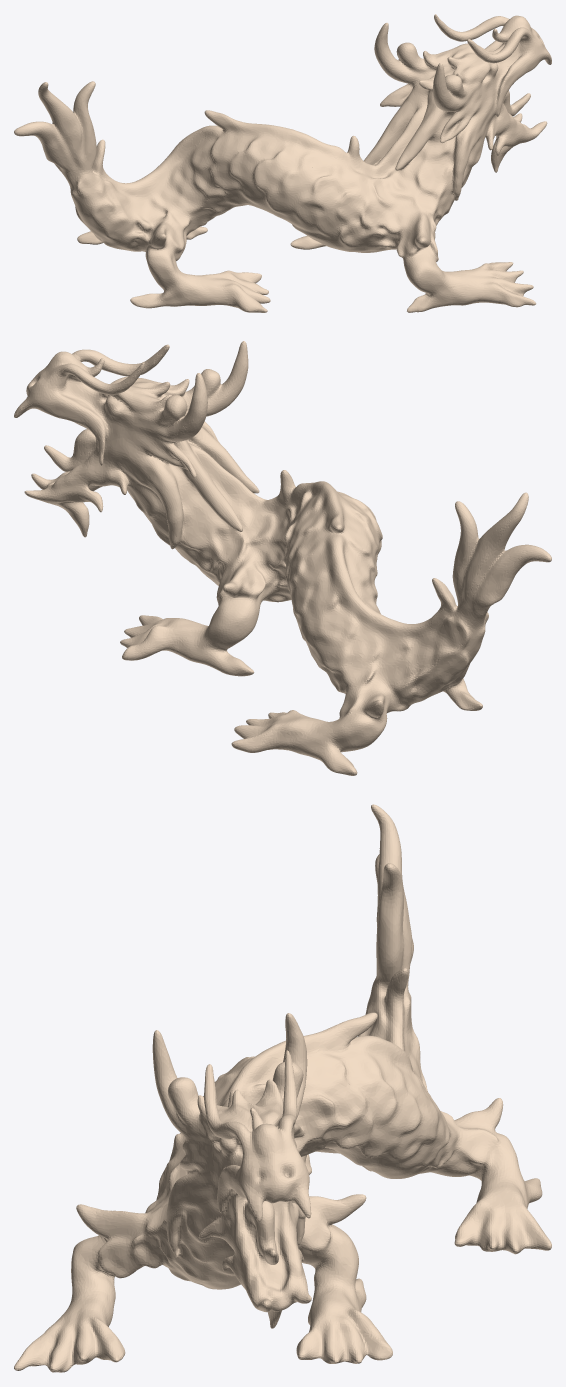
Rendered from dragon_siren.glb.
3 views of the same model, one above another, from view 1: azimuth 30°, elevation 25°; view 2: azimuth 150°, elevation 25°; view 3: azimuth 270°, elevation 25° (orthographic). The views are drawn at different scales.
Visible parts, largest first — view 1: world; view 2: world; view 3: world.
Boxes of the visible parts, x1,y1,x2,y2 form: world: (14,14,551,312); world: (14,341,551,775); world: (14,804,551,1372).
Bounding box in the file's own units: 0.9989 × 0.4458 × 0.6633.
